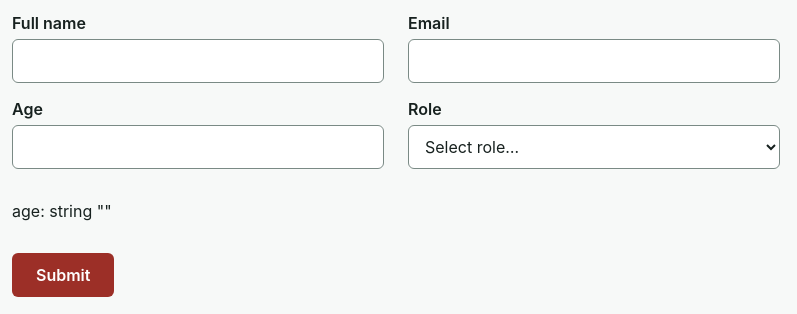
Test: InputField › stores a number from valueAsNumber and "" when cleared — never NaN
Expected: the text "age: string \"\"" is shown, [12,201,112,221]
Step 1. Type "21" into the number field labelled "Age" → (198, 147), box [12,125,384,169]
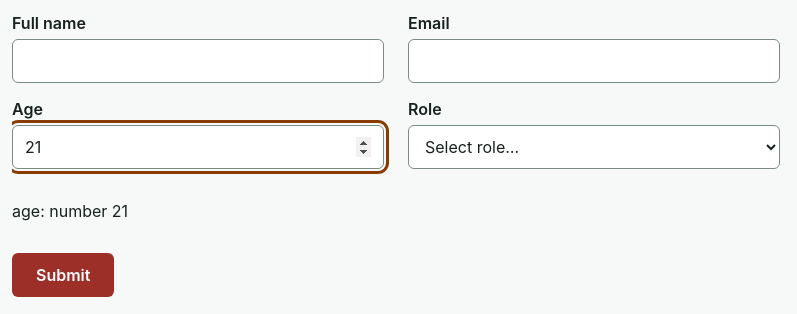
Now the text "age: number 21" is shown, box [12,201,128,221]
Step 2. Clear the number field labelled "Age" → (198, 147), box [12,125,384,169]
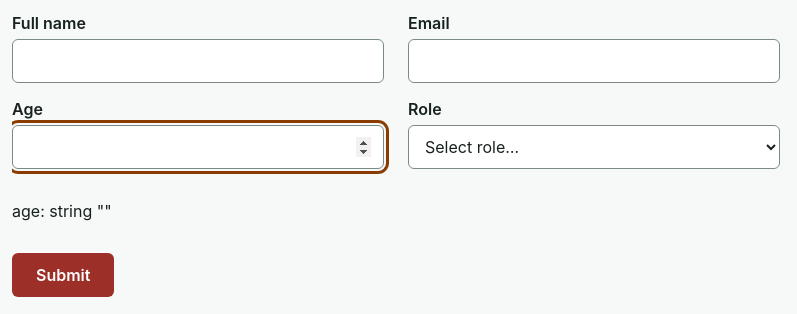
Now the text "age: string \"\"" is shown, box [12,201,112,221]
